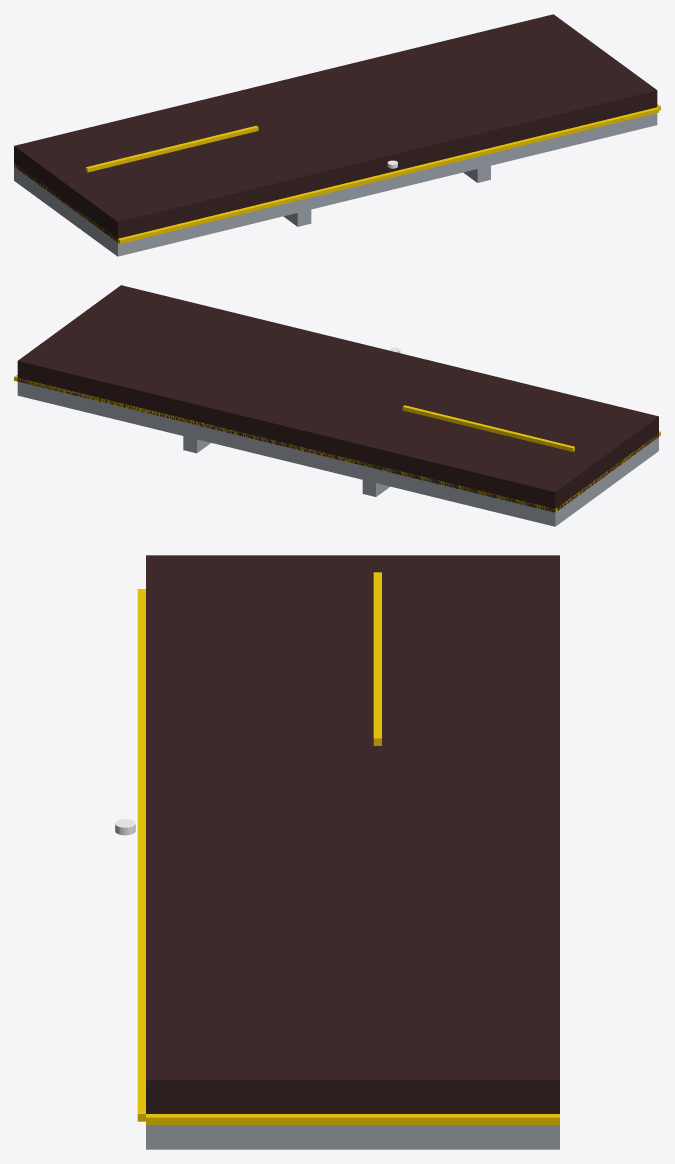
The model's file is Bảng hiệu alu chữ nổi mica đèn LED.obj.
The picture shows the model from 3 angles, top to bottom: view 1: azimuth 30°, elevation 25°; view 2: azimuth 150°, elevation 25°; view 3: azimuth 270°, elevation 25°; orthographic projection. The views are drawn at different scales.
Visible parts, largest first — view 1: bang_hieu_alu_chu_noi_mica_den_led; view 2: bang_hieu_alu_chu_noi_mica_den_led; view 3: bang_hieu_alu_chu_noi_mica_den_led.
Part boxes in pixels (x1,y1,x2,y2): bang_hieu_alu_chu_noi_mica_den_led: [14, 14, 660, 256]; bang_hieu_alu_chu_noi_mica_den_led: [14, 285, 660, 526]; bang_hieu_alu_chu_noi_mica_den_led: [115, 555, 559, 1149].
Size of the model in its own units: 1.21 by 0.114 by 0.43.
